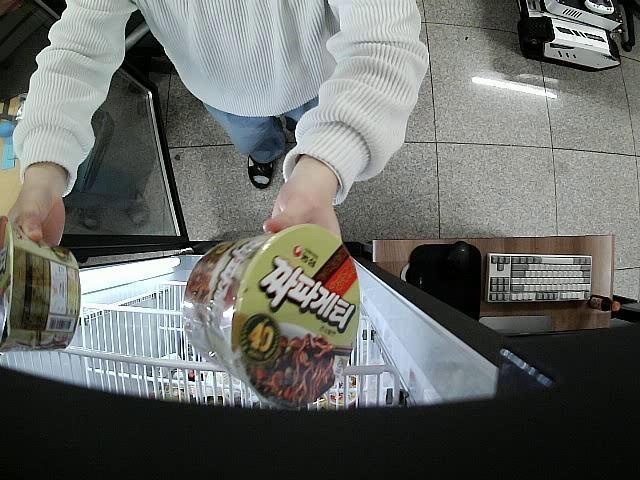03_chapagetti_L: (181, 222, 360, 410), (0, 215, 81, 356)
